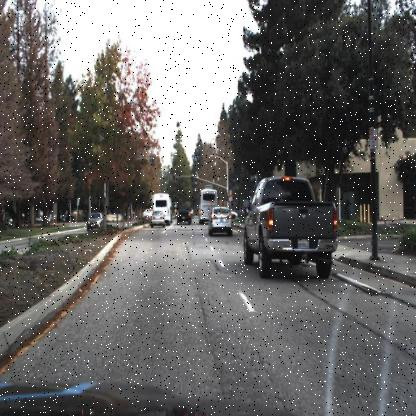car: (242, 172, 338, 279), (207, 204, 233, 238), (85, 210, 103, 230), (176, 205, 191, 226), (149, 209, 165, 228)
truck: (197, 187, 218, 223), (153, 190, 171, 223)
